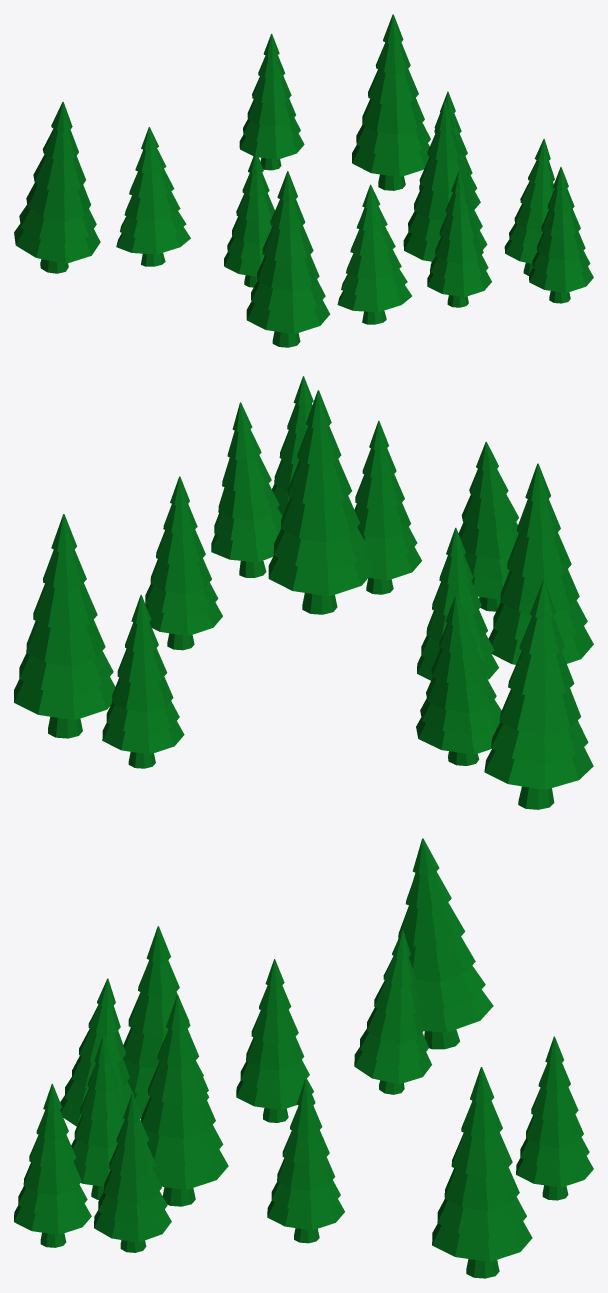
File: city_007.obj
The picture shows the model from 3 angles, top to bottom: view 1: azimuth 30°, elevation 25°; view 2: azimuth 150°, elevation 25°; view 3: azimuth 270°, elevation 25°; orthographic projection. The views are drawn at different scales.
Parts seen in each view (by area): view 1: lowpolytree003; view 2: lowpolytree003; view 3: lowpolytree003.
Boxes of the visible parts, x1,y1,x2,y2 form: lowpolytree003: [14, 14, 593, 347]; lowpolytree003: [14, 376, 593, 809]; lowpolytree003: [14, 838, 593, 1278].
Bounding box in the file's own units: 7.53 × 3.26 × 7.35.
